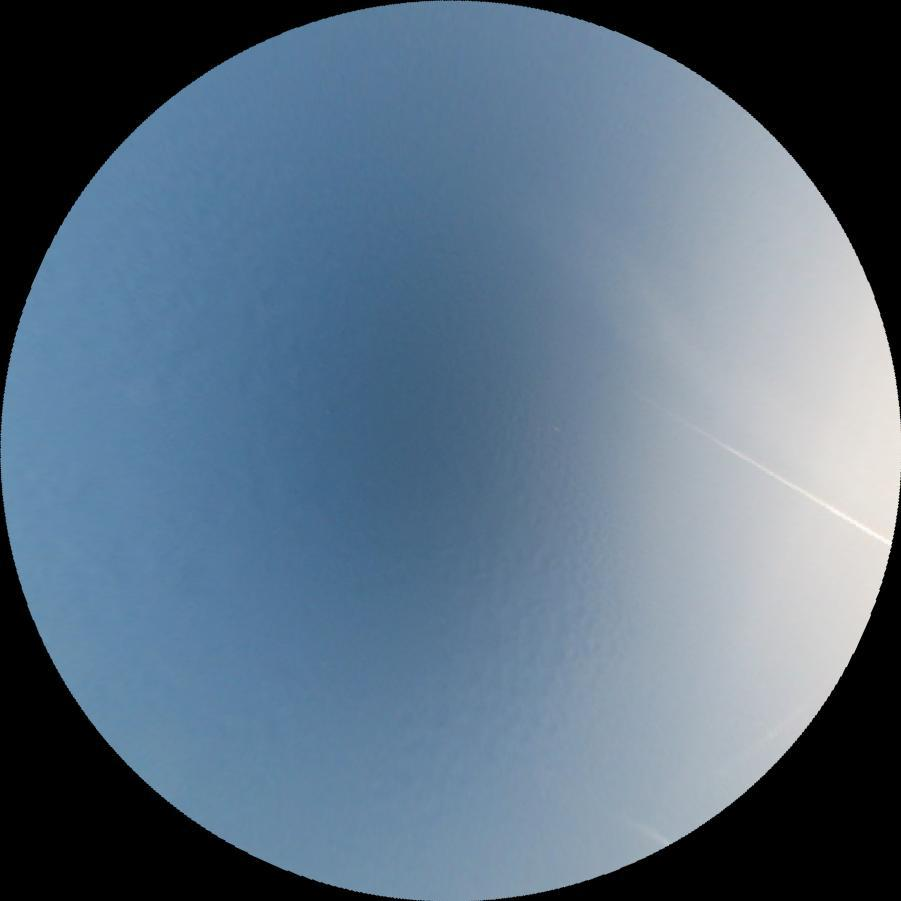contrail young: (674, 414, 894, 548), (616, 813, 671, 852)
